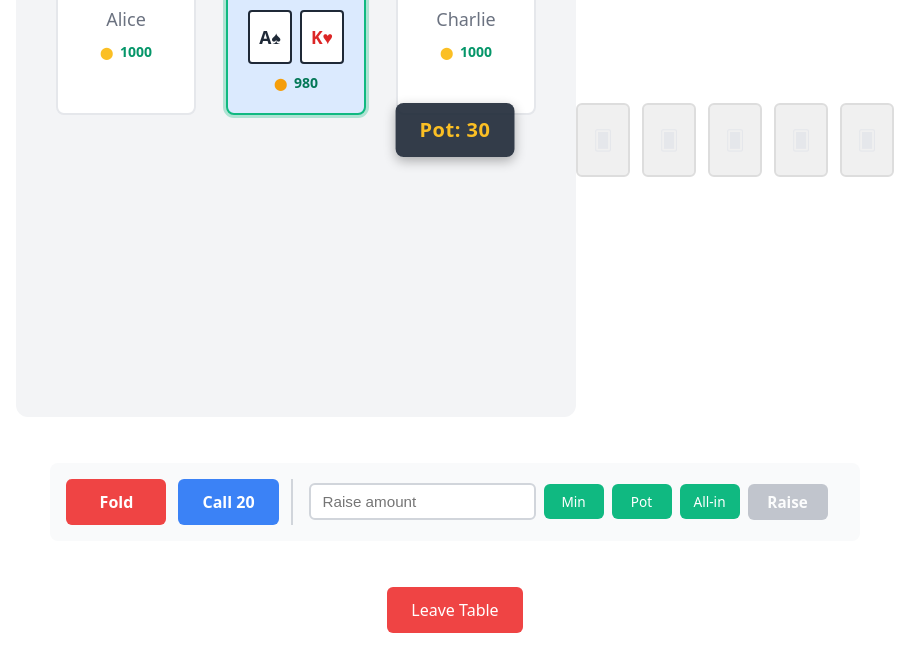
Scenario: Action Bar Tests - Phase 5 › TestTableView_RaisePresets › should show Min preset button and set raise amount to minRaise
The width and height of the screenshot is (911, 650).
(page scrolled)
Step 1. Click the button "Min" → coordinates (574, 502), box [544,484,604,519]
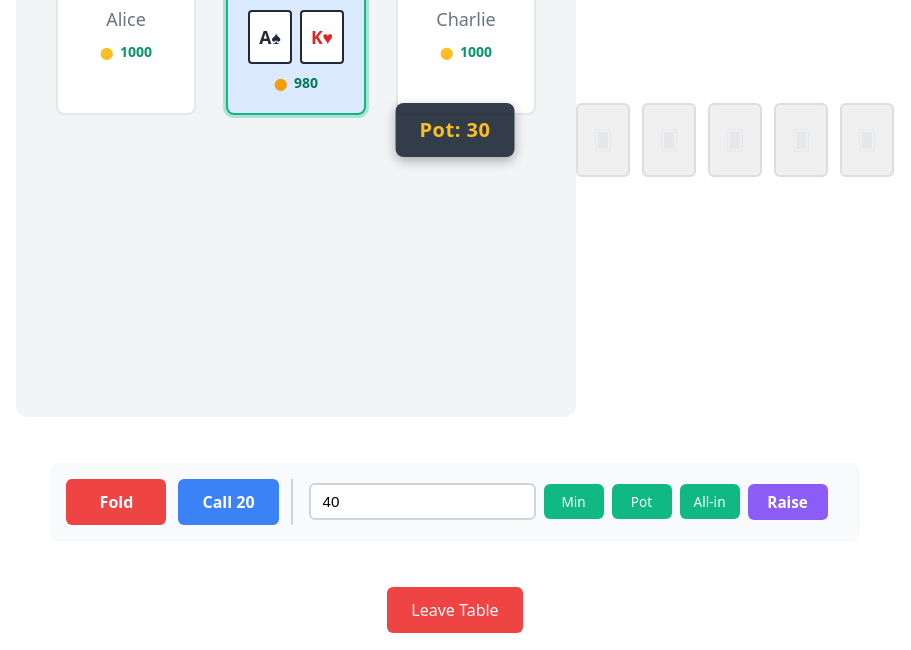
Now the field showing "40" holds "40", box [308,483,536,520]
